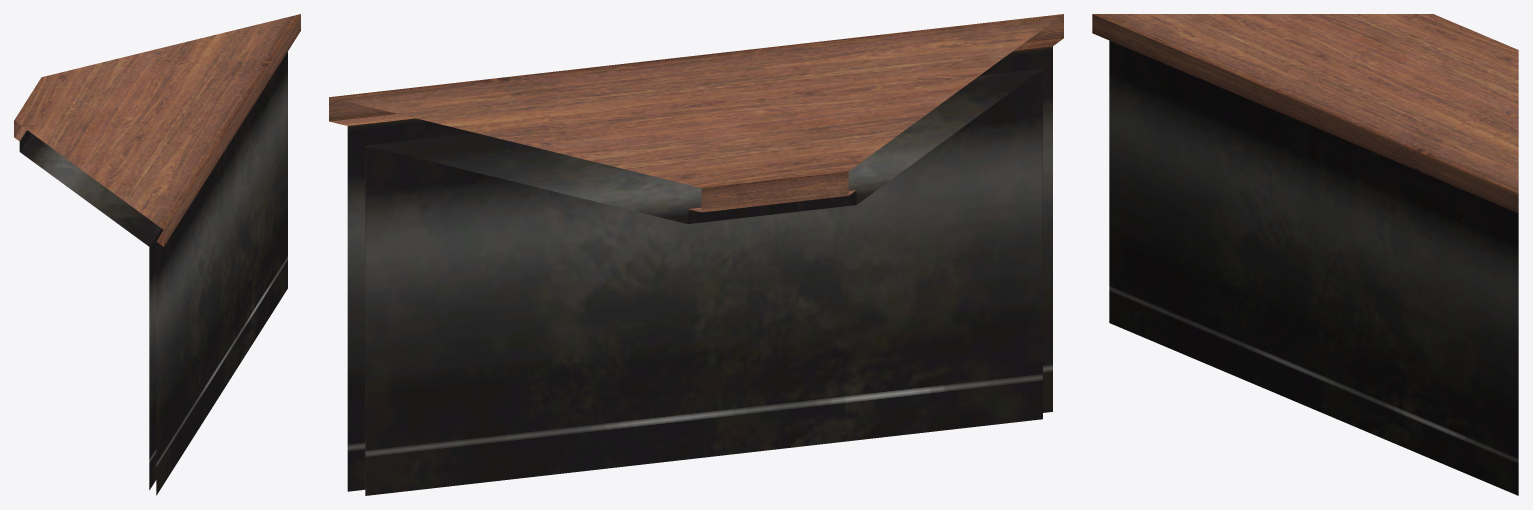
File: component_desk_corner.fbx
The picture shows the model from 3 angles, left to right: view 1: azimuth 30°, elevation 25°; view 2: azimuth 150°, elevation 25°; view 3: azimuth 270°, elevation 25°; orthographic projection. The views are drawn at different scales.
Visible parts, largest first — view 1: mesh_0; view 2: mesh_0; view 3: mesh_0.
Part boxes in pixels (x1=…): mesh_0: x1=14, y1=14, x2=300, y2=495; mesh_0: x1=329, y1=14, x2=1063, y2=495; mesh_0: x1=1092, y1=14, x2=1518, y2=495.
Size of the model in its own units: 100 by 80 by 100.
Materials: 1 (1 with a texture image).
